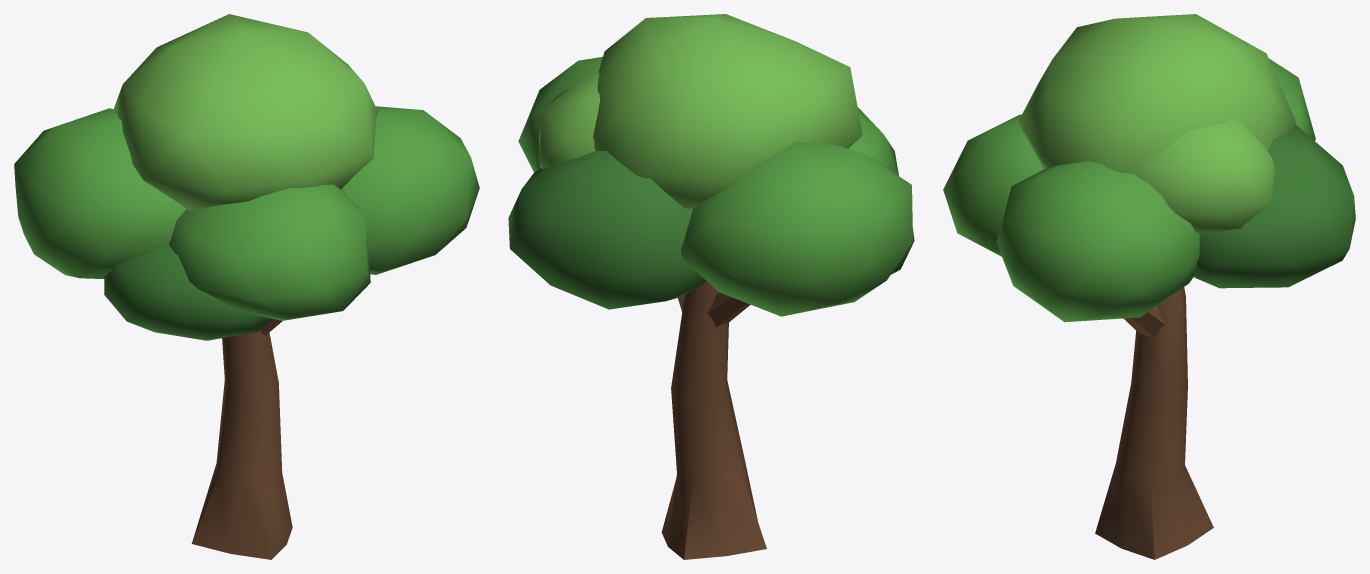
File: tree-oak.glb
3 renders of one model, left to right at view 1: azimuth 30°, elevation 25°; view 2: azimuth 150°, elevation 25°; view 3: azimuth 270°, elevation 25°, orthographic. The views are drawn at different scales.
Parts seen in each view (by area): view 1: Part_LeafOakMid, Part_LeafOakTop, Part_Bark, Part_LeafOakDark; view 2: Part_LeafOakTop, Part_LeafOakMid, Part_LeafOakDark, Part_Bark; view 3: Part_LeafOakTop, Part_LeafOakMid, Part_Bark, Part_LeafOakDark.
Part boxes in pixels (bbox=[...]): Part_LeafOakMid: bbox=[14, 106, 479, 320]; Part_LeafOakTop: bbox=[114, 14, 378, 210]; Part_Bark: bbox=[191, 319, 292, 559]; Part_LeafOakDark: bbox=[104, 244, 272, 340]; Part_LeafOakTop: bbox=[538, 14, 862, 208]; Part_LeafOakMid: bbox=[518, 56, 912, 316]; Part_LeafOakDark: bbox=[508, 150, 914, 309]; Part_Bark: bbox=[661, 281, 766, 559]; Part_LeafOakTop: bbox=[1018, 14, 1295, 233]; Part_LeafOakMid: bbox=[943, 58, 1315, 322]; Part_Bark: bbox=[1095, 287, 1213, 559]; Part_LeafOakDark: bbox=[1194, 124, 1355, 288].
Bounding box in the file's own units: 4.51 × 5.58 × 4.06.
